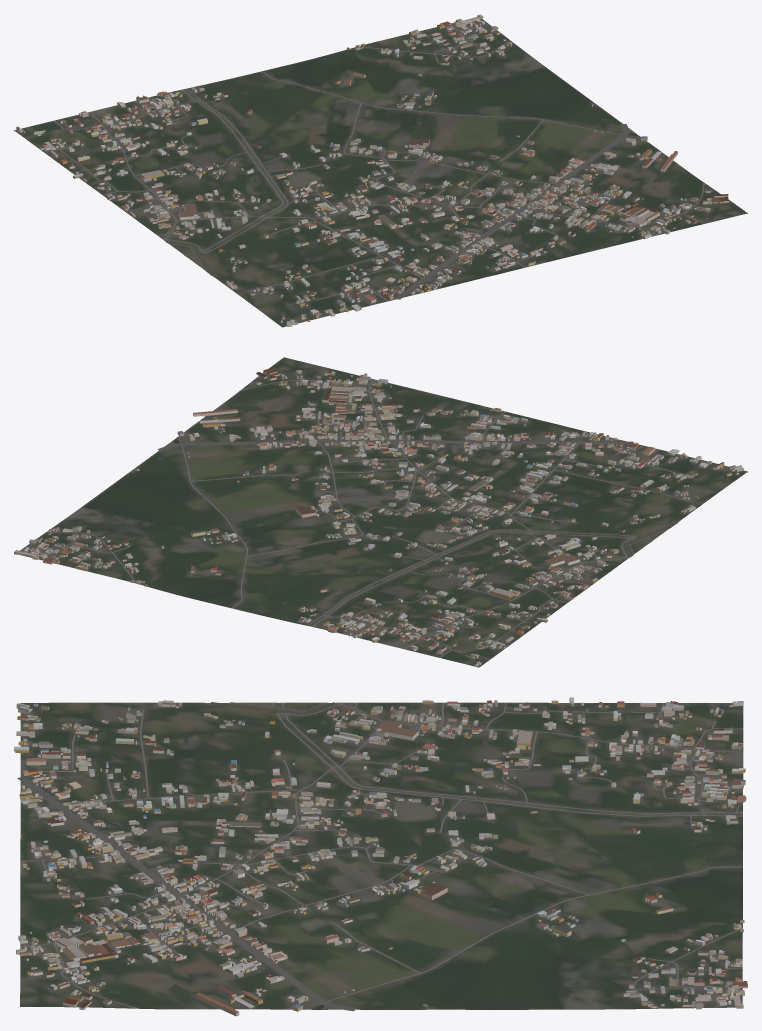
The picture shows the model from 3 angles, top to bottom: view 1: azimuth 30°, elevation 25°; view 2: azimuth 150°, elevation 25°; view 3: azimuth 270°, elevation 25°; orthographic projection. The views are drawn at different scales.
Visible parts, largest first — view 1: ground, buildings, roads; view 2: ground, buildings, roads; view 3: ground, buildings, roads.
Boxes of the visible parts, x1,y1,x2,y2 form: ground: [14, 18, 747, 327]; buildings: [16, 14, 728, 326]; roads: [43, 23, 704, 301]; ground: [17, 357, 747, 667]; buildings: [14, 368, 743, 667]; roads: [25, 379, 691, 657]; ground: [20, 702, 743, 1009]; buildings: [14, 697, 747, 1016]; roads: [17, 702, 743, 1011].
Size of the model in its own units: 1442 by 21.54 by 1423.
